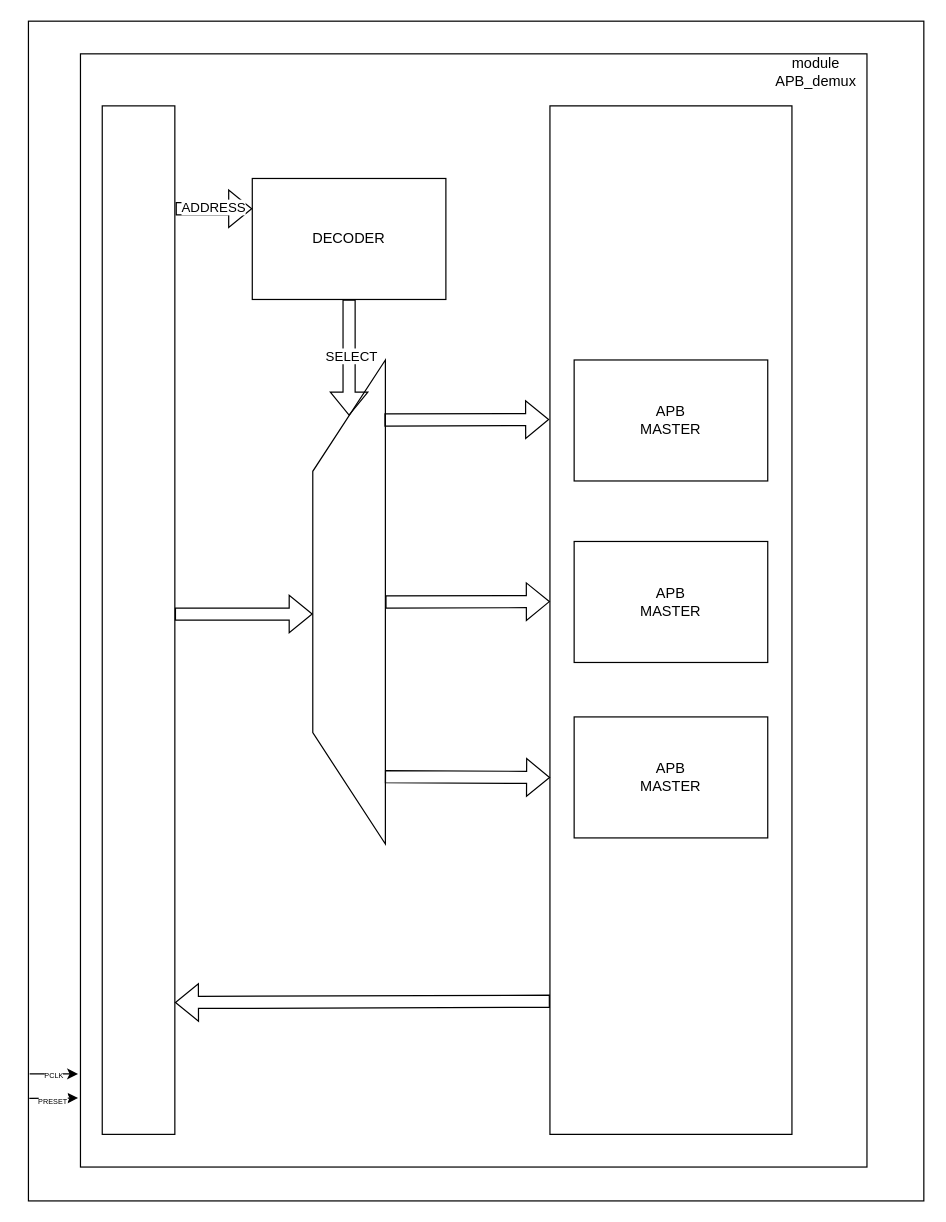
The diagram is 946 pixels wide and 1222 high, and some of its shapes have lost their labels. The shapes that lost their labels are listed below. From the top down, each one's centre as x and y in pixels, then its label:
At (x=138, y=619): "APB SLAVE".
At (x=348, y=601): "DEMUX".
